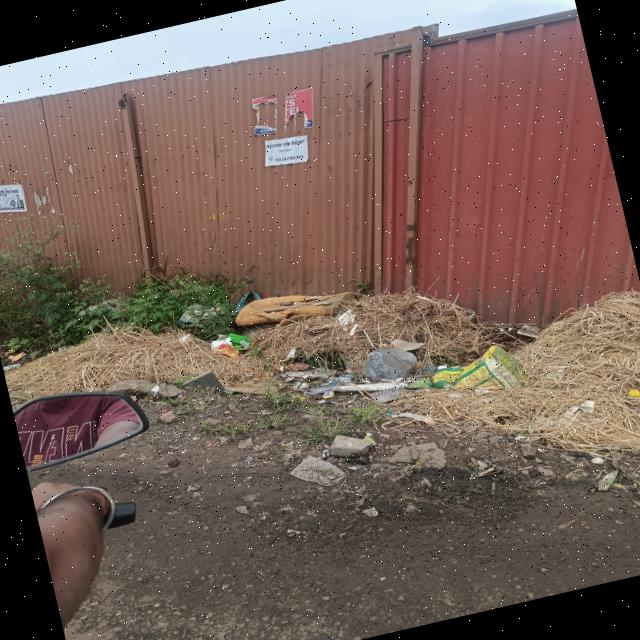garbage: (276, 306, 523, 432), (202, 260, 366, 361)
